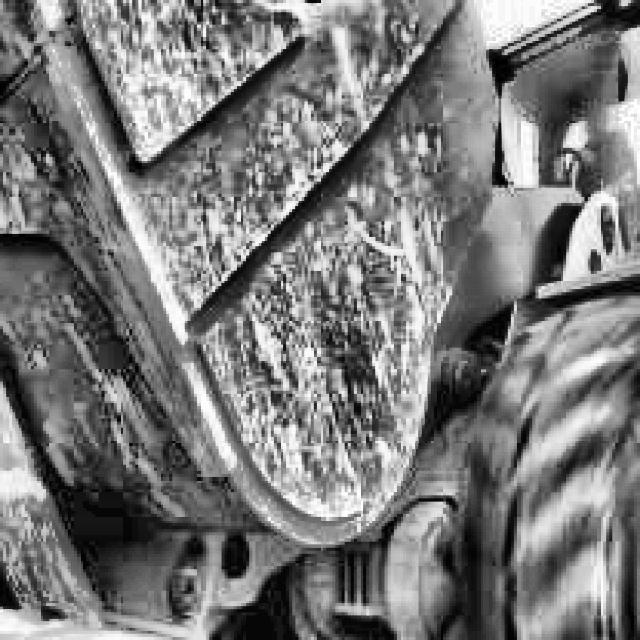buldozerpayloadergrader: (243, 0, 640, 640)
